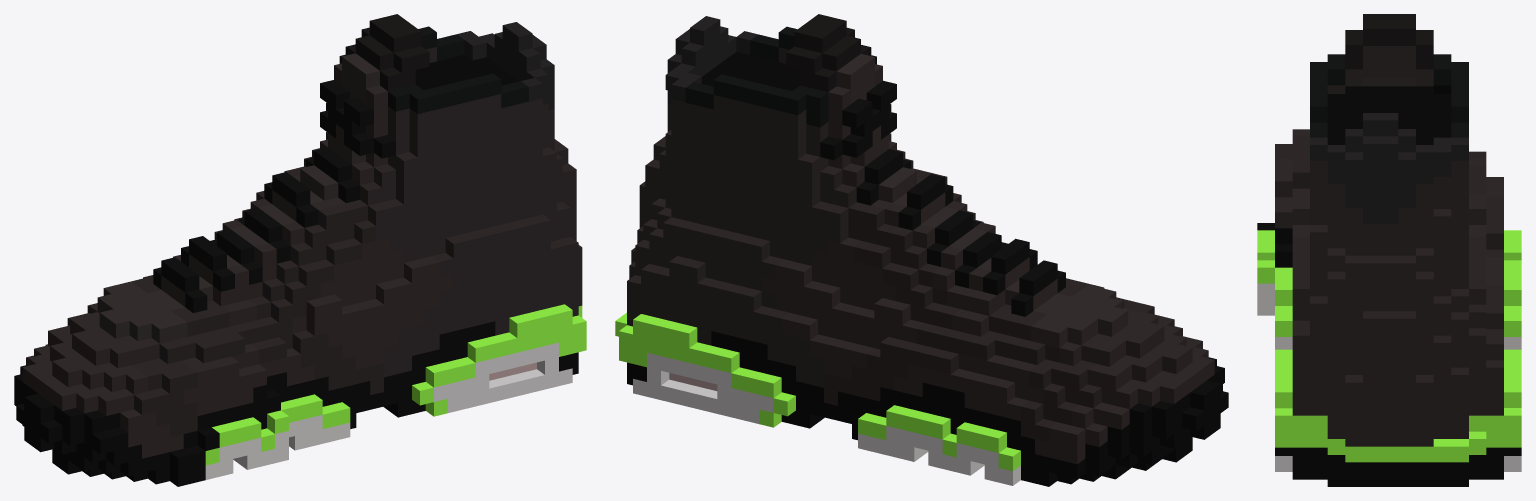
File: Green Lighting.fbx
3 renders of one model, left to right at view 1: azimuth 30°, elevation 25°; view 2: azimuth 150°, elevation 25°; view 3: azimuth 270°, elevation 25°, orthographic. The views are drawn at different scales.
Parts seen in each view (by area): view 1: Untitled; view 2: Untitled; view 3: Untitled.
Part boxes in pixels (x1,y1,x2,y2): Untitled: [14, 14, 586, 486]; Untitled: [615, 14, 1228, 486]; Untitled: [1257, 14, 1521, 486].
Bounding box in the file's own units: 390 × 240 × 150.
